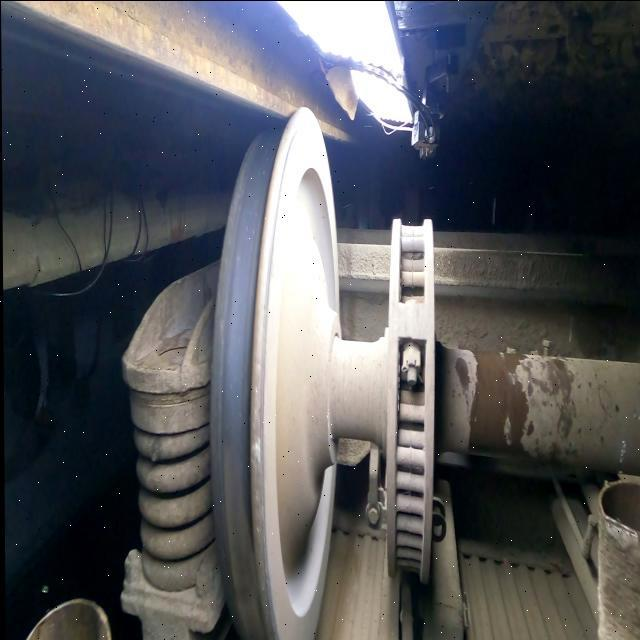Cracks-Scratches: (248, 433, 261, 466)
Shelling: (222, 450, 263, 637)
Wheel: (208, 107, 339, 640)
